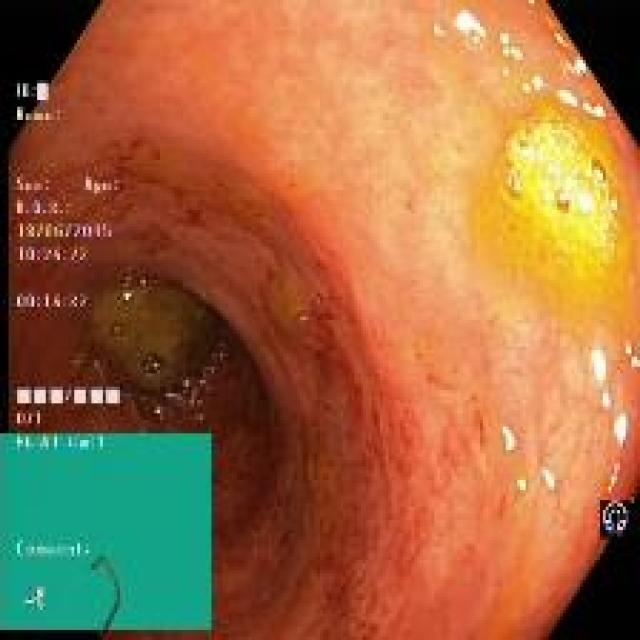ulcerative-colitis-grade-1: (11, 3, 640, 639)
